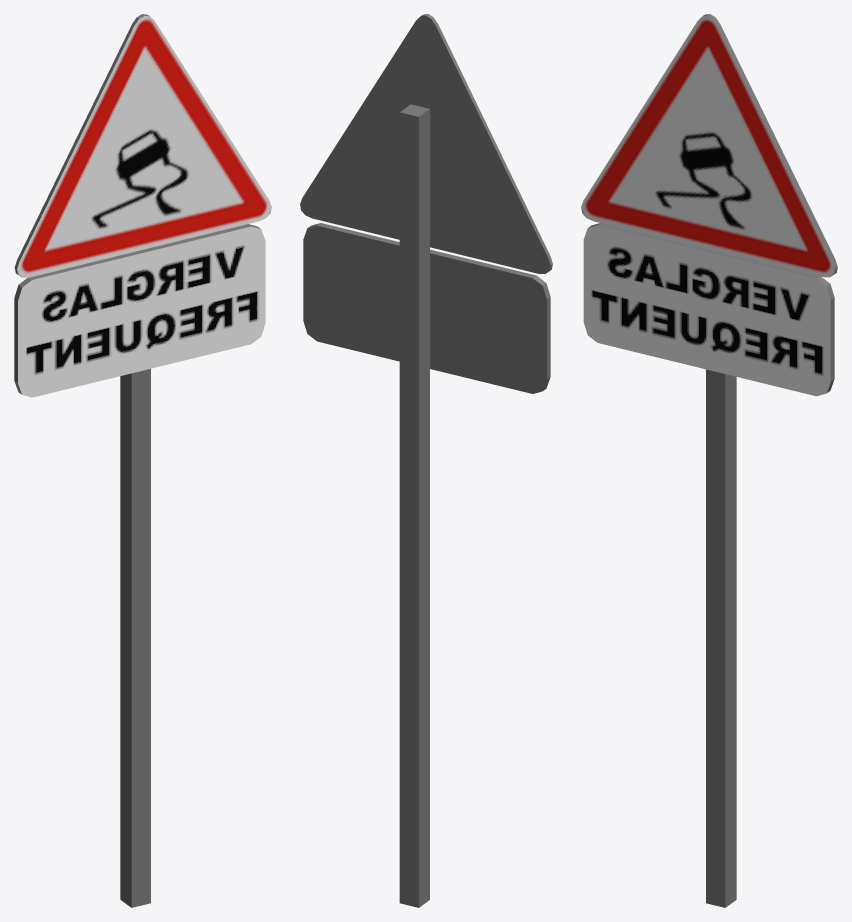
Rendered from Slippery.obj.
3 views of the same model, side by side, from view 1: azimuth 30°, elevation 25°; view 2: azimuth 150°, elevation 25°; view 3: azimuth 330°, elevation 25° (orthographic).
Parts seen in each view (by area): view 1: Sign_SlipperyRoad; view 2: Sign_SlipperyRoad; view 3: Sign_SlipperyRoad.
Boxes of the visible parts, x1,y1,x2,y2 form: Sign_SlipperyRoad: (14, 14, 271, 907); Sign_SlipperyRoad: (300, 14, 552, 907); Sign_SlipperyRoad: (581, 14, 837, 907).
Size of the model in its own units: 1.47 by 4.94 by 0.1683.
1 material, 1 textured.
